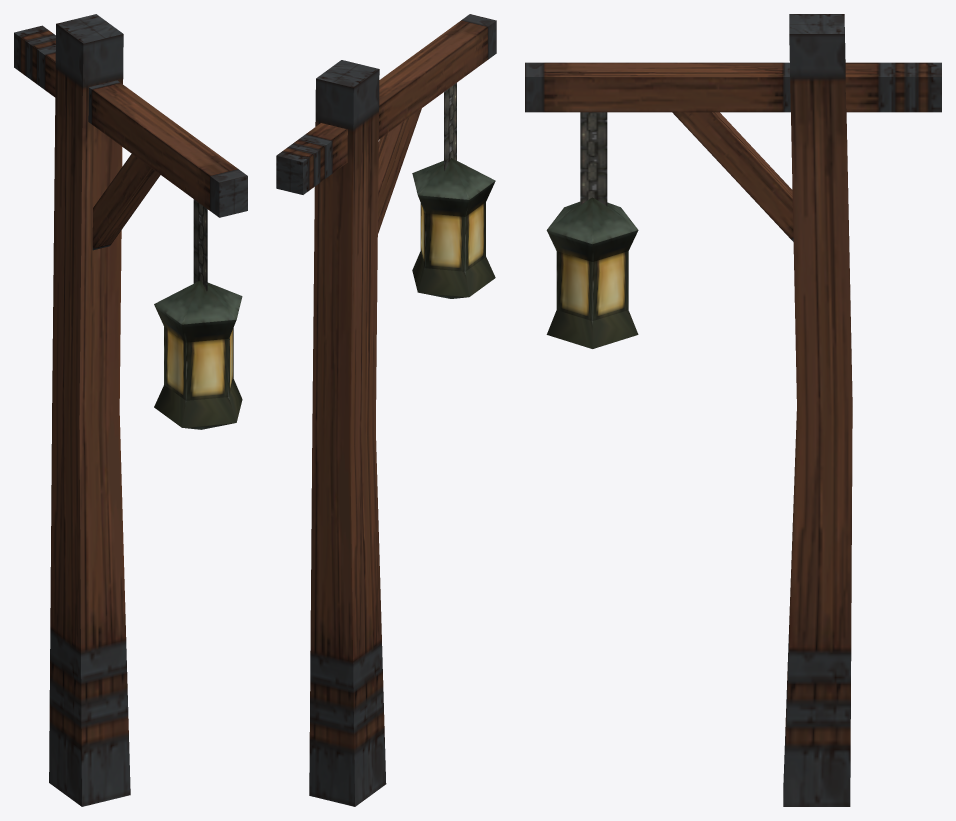
Rendered from 2_YiZhan_MaDeng_01.FBX.
3 views of the same model, side by side, from view 1: azimuth 30°, elevation 25°; view 2: azimuth 150°, elevation 25°; view 3: azimuth 270°, elevation 25° (orthographic). The views are drawn at different scales.
Parts seen in each view (by area): view 1: 2_YiZhan_MaDeng_01, 2_YiZhan_MaDeng_02; view 2: 2_YiZhan_MaDeng_01, 2_YiZhan_MaDeng_02; view 3: 2_YiZhan_MaDeng_01, 2_YiZhan_MaDeng_02.
Part boxes in pixels (x1,y1,x2,y2): 2_YiZhan_MaDeng_01: [14, 14, 247, 806]; 2_YiZhan_MaDeng_02: [154, 280, 242, 429]; 2_YiZhan_MaDeng_01: [276, 14, 496, 806]; 2_YiZhan_MaDeng_02: [412, 158, 495, 298]; 2_YiZhan_MaDeng_01: [525, 14, 941, 806]; 2_YiZhan_MaDeng_02: [546, 197, 638, 348].
Size of the model in its own units: 53.9 by 524 by 257.
